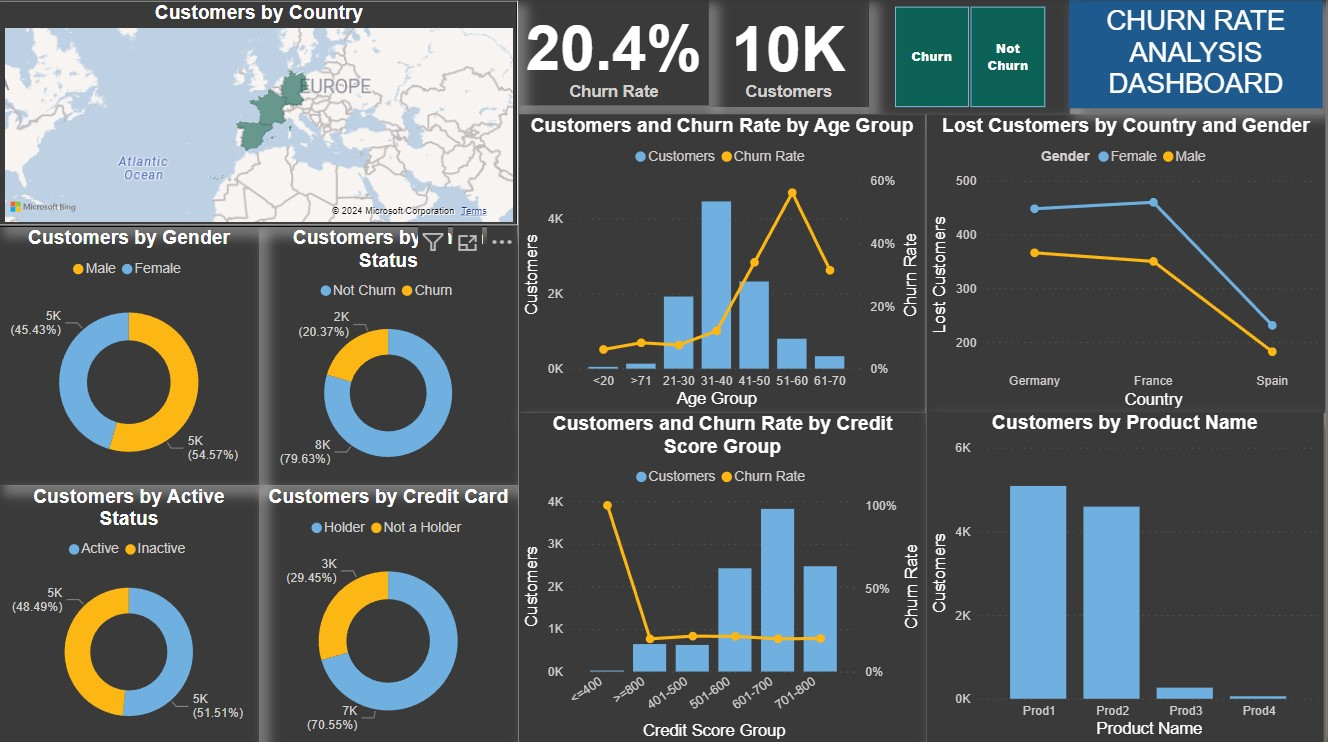

The dashboard page shown, as its layout file describes it:
{"tool":"powerbi","page":{"name":"Page 1","canvas":[1280,720],"ordinal":0},"visuals":[{"type":"card","fields":{"Values":["Measures Calculation.Customers"]},"box":[684.6,1.2,154,103.9],"z":0},{"type":"card","fields":{"Values":["Measures Calculation.Churn Rate"]},"box":[501.2,1.2,183.4,102.7],"z":1000},{"type":"donutChart","fields":{"Y":["Measures Calculation.Customers"],"Category":["Bank Customer Churn Prediction Data.Gender"]},"box":[0,220.7,250.9,249.6],"z":2000},{"type":"donutChart","fields":{"Y":["Measures Calculation.Customers"],"Category":["Bank Customer Churn Prediction Data.Active Status"]},"box":[0,470.4,250.9,250],"z":3000},{"type":"donutChart","fields":{"Y":["Measures Calculation.Customers"],"Category":["Bank Customer Churn Prediction Data.Credit Card"]},"box":[250.9,470.4,249.6,249.6],"z":4000},{"type":"donutChart","fields":{"Y":["Measures Calculation.Customers"],"Category":["Bank Customer Churn Prediction Data.Churn Status"]},"box":[250.9,220.7,249.6,249.6],"z":5000},{"type":"filledMap","fields":{"Category":["Bank Customer Churn Prediction Data.Country"]},"box":[0,2,500,218],"z":6000},{"type":"slicer","fields":{"Values":["Bank Customer Churn Prediction Data.Churn Status"]},"box":[838.6,1.4,194.9,110.8],"z":7000},{"type":"lineClusteredColumnComboChart","fields":{"Y":["Measures Calculation.Customers"],"Category":["Age Group.Age Group"],"Y2":["Measures Calculation.Churn Rate"]},"box":[502,112,392,288],"z":8000},{"type":"lineClusteredColumnComboChart","fields":{"Y":["Measures Calculation.Customers"],"Y2":["Measures Calculation.Churn Rate"],"Category":["Credit Score Group.Credit Score Group"]},"box":[501.4,400,392.9,320],"z":9000},{"type":"lineChart","fields":{"Y":["Measures Calculation.Lost Cuatomers"],"Category":["Bank Customer Churn Prediction Data.Country"],"Series":["Bank Customer Churn Prediction Data.Gender"]},"box":[894.9,112.2,384.7,288.2],"z":10000},{"type":"columnChart","fields":{"Y":["Measures Calculation.Customers"],"Category":["Bank Customer Churn Prediction Data.Product Name"]},"box":[894.7,399.6,382.8,319.7],"z":11000},{"type":"textbox","box":[1032.9,2.4,244.5,103.9],"z":12000}]}

Visuals, with their boxes in screenshot pixels (x1, y1, x2, y2), scaled from the page's 1280x720 canvas onto the 1328x742 screenshot:
card - Measures Calculation.Customers: crop(710, 1, 870, 108)
card - Measures Calculation.Churn Rate: crop(520, 1, 710, 107)
donutChart - Measures Calculation.Customers x Bank Customer Churn Prediction Data.Gender: crop(0, 227, 260, 485)
donutChart - Measures Calculation.Customers x Bank Customer Churn Prediction Data.Active Status: crop(0, 485, 260, 741)
donutChart - Measures Calculation.Customers x Bank Customer Churn Prediction Data.Credit Card: crop(260, 485, 519, 741)
donutChart - Measures Calculation.Customers x Bank Customer Churn Prediction Data.Churn Status: crop(260, 227, 519, 485)
filledMap - Bank Customer Churn Prediction Data.Country: crop(0, 2, 519, 227)
slicer - Bank Customer Churn Prediction Data.Churn Status: crop(870, 1, 1072, 116)
lineClusteredColumnComboChart - Measures Calculation.Customers x Age Group.Age Group: crop(521, 115, 928, 412)
lineClusteredColumnComboChart - Measures Calculation.Customers x Measures Calculation.Churn Rate: crop(520, 412, 928, 741)
lineChart - Measures Calculation.Lost Cuatomers x Bank Customer Churn Prediction Data.Country: crop(928, 116, 1327, 413)
columnChart - Measures Calculation.Customers x Bank Customer Churn Prediction Data.Product Name: crop(928, 412, 1325, 741)
textbox: crop(1072, 2, 1325, 110)
